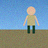person: (23, 6, 39, 33)
